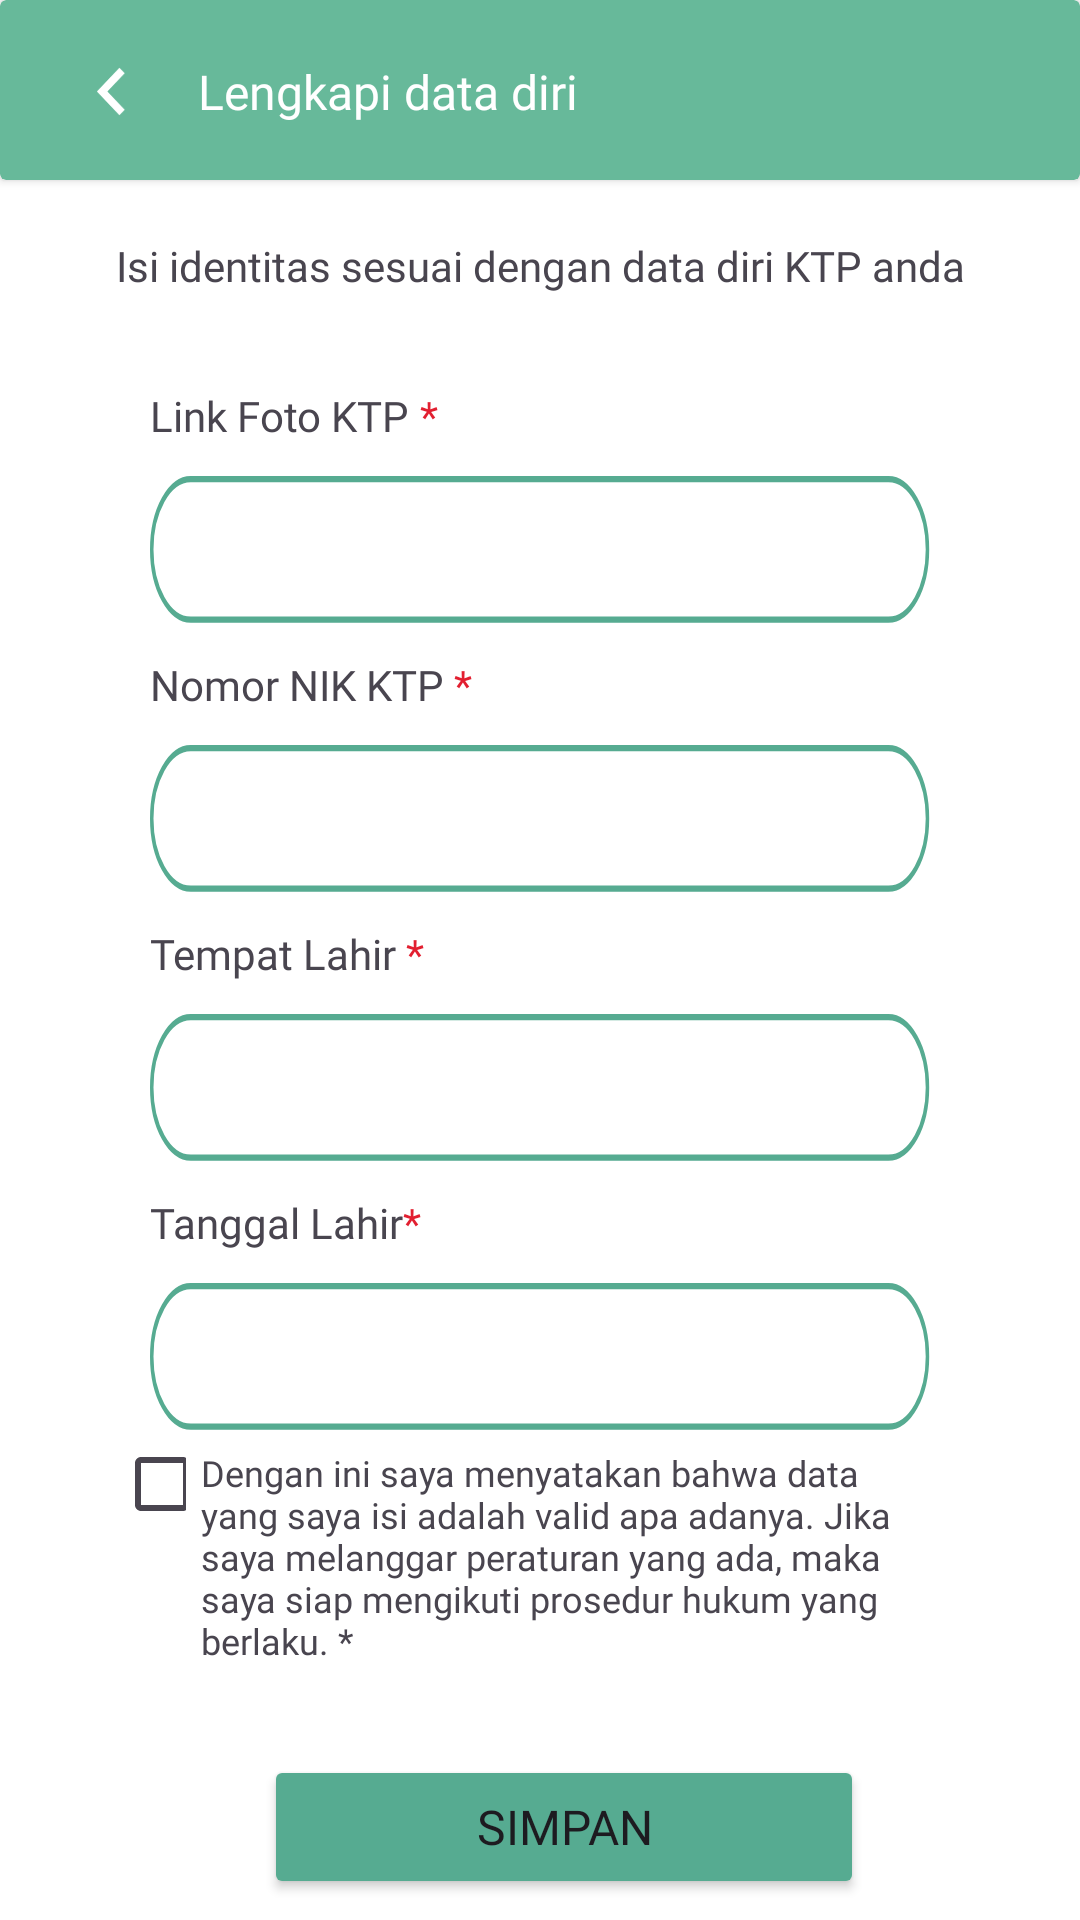

Icon click points for this 1080px x 1920px phone screenshot, format (x=x, y=y):
back: (x=111, y=91)
